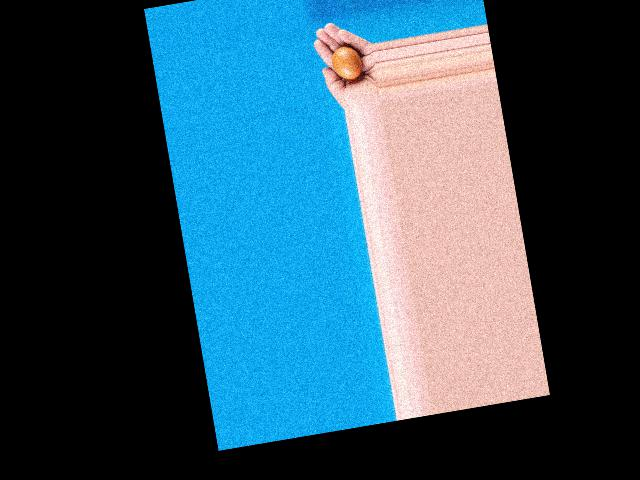egg: (330, 43, 363, 81)
